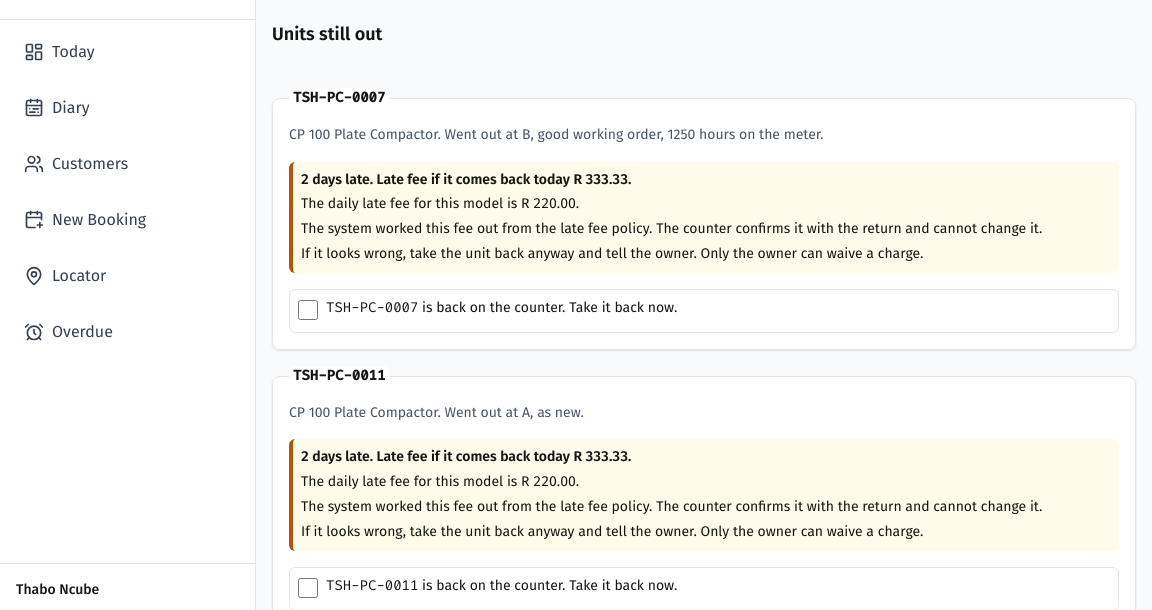
Test: what the server answers › shows the hire partially returned when a unit is still out, and moves focus to it
(page scrolled)
Click the checkbox labelled "TSH-PC-0007 is back on the counter. Take it back now.". click: (308, 310)
box: [298,300,318,320]
(page scrolled)
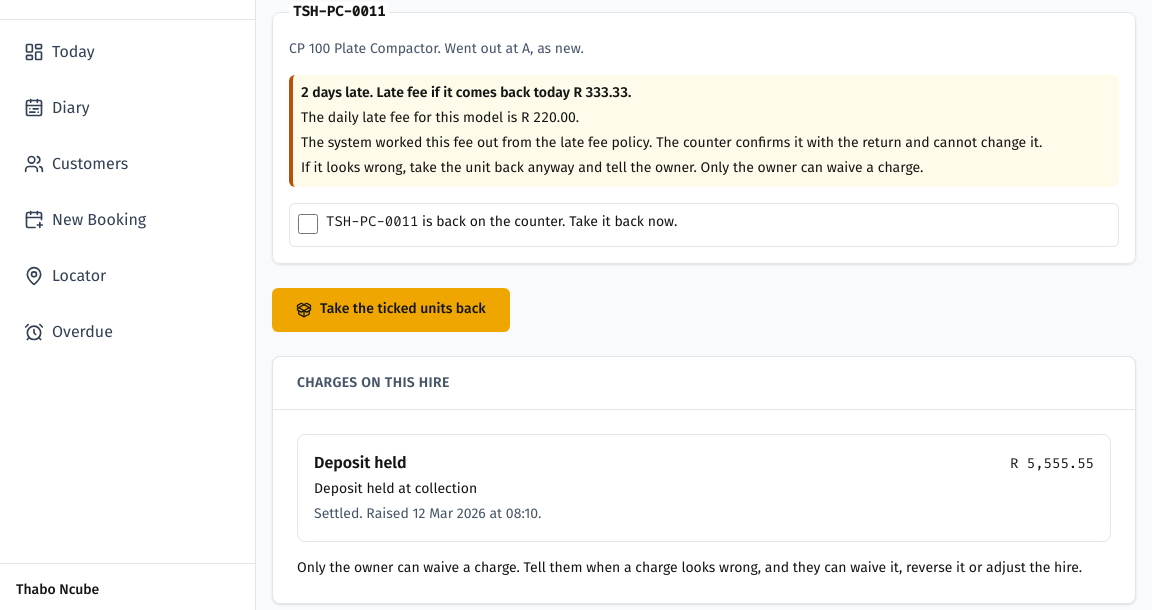
Click the button "Take the ticked units back". click: (391, 310)
box: [272,288,510,332]
(page scrolled)
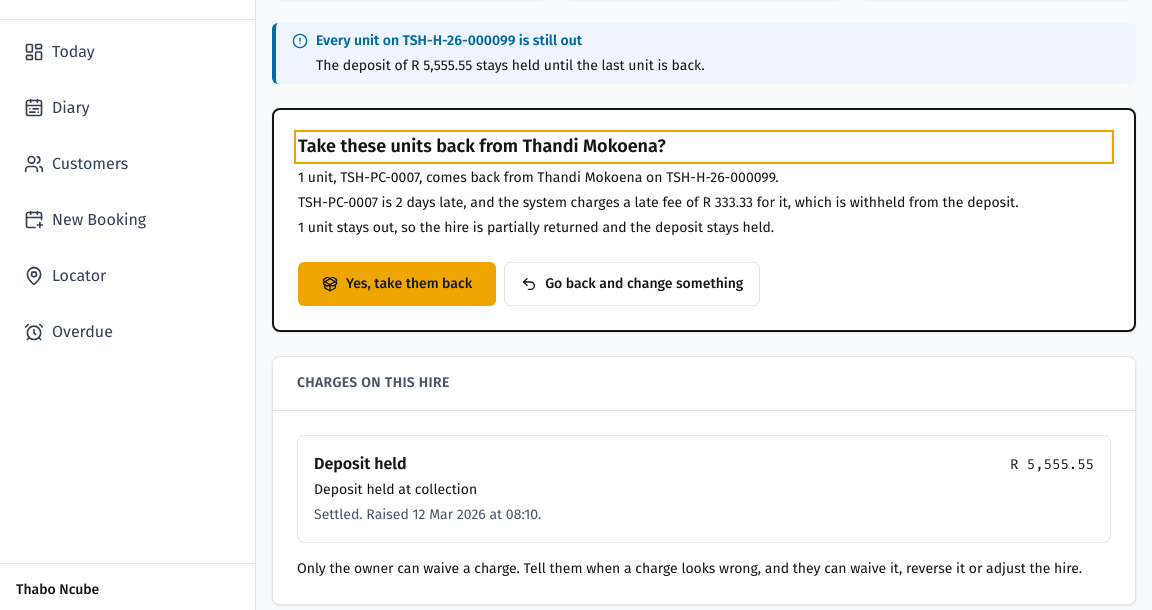
Click the button "Yes, take them back". click: (397, 284)
box: [298,262,496,306]
(page scrolled)
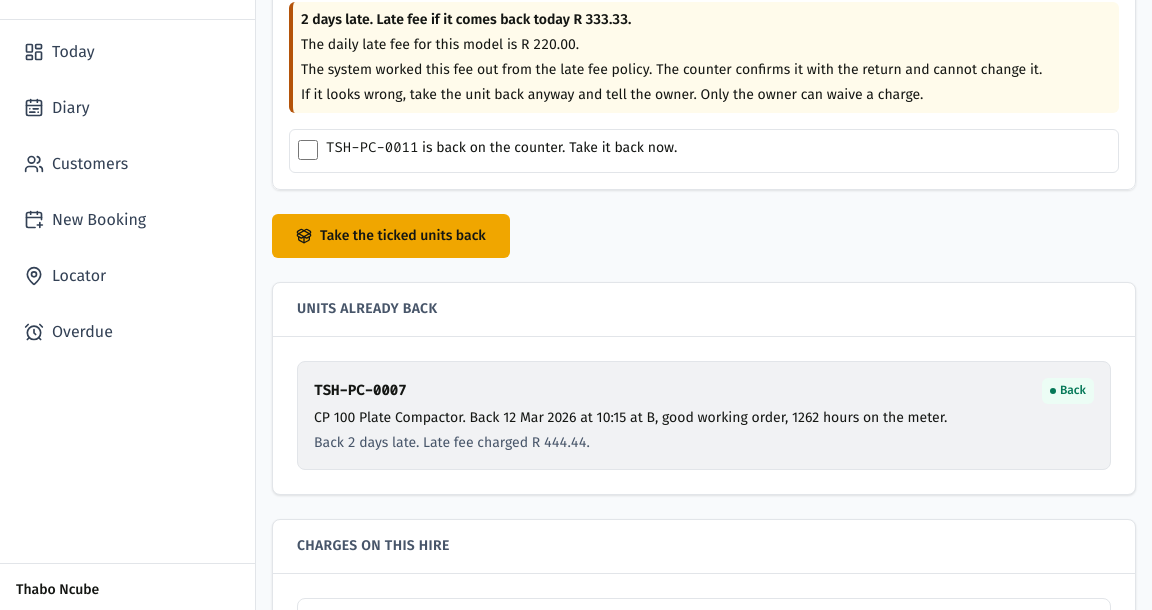
Expected: the checkbox labelled "TSH-PC-0011 is back on the counter. Take it back now." is not checked, [298,140,318,160]
Expected: the heading "Units already back" is shown, [297,299,438,320]
